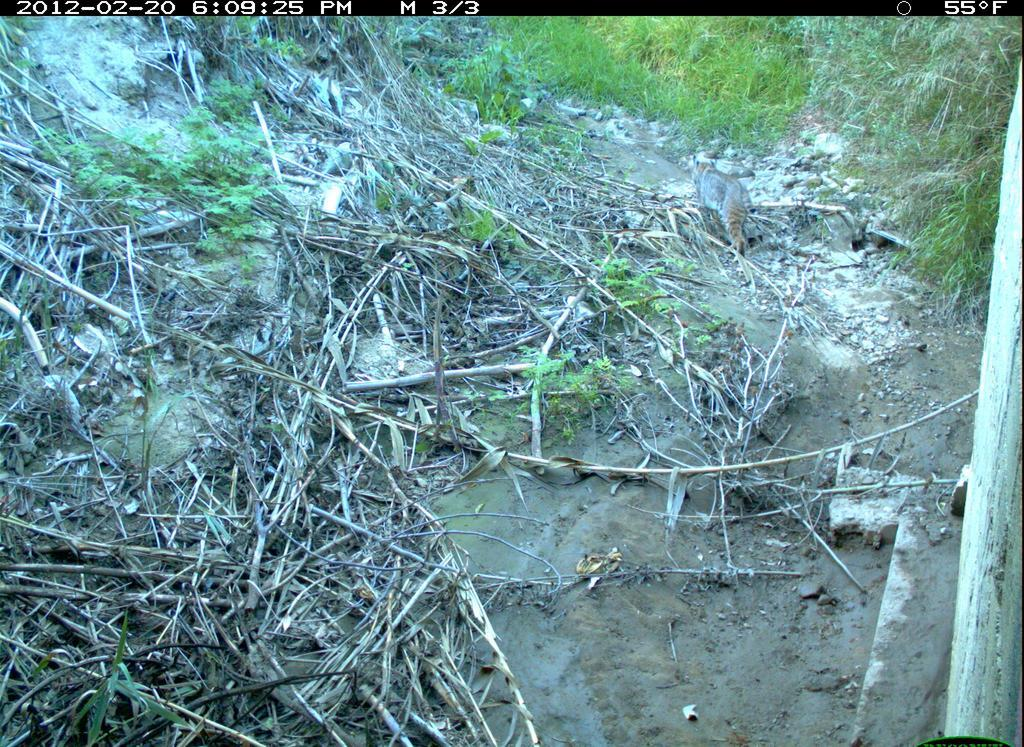bobcat: (683, 150, 776, 269)
